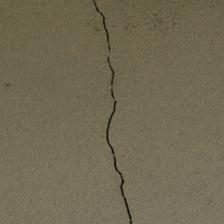Crack: (45, 2, 95, 219)
